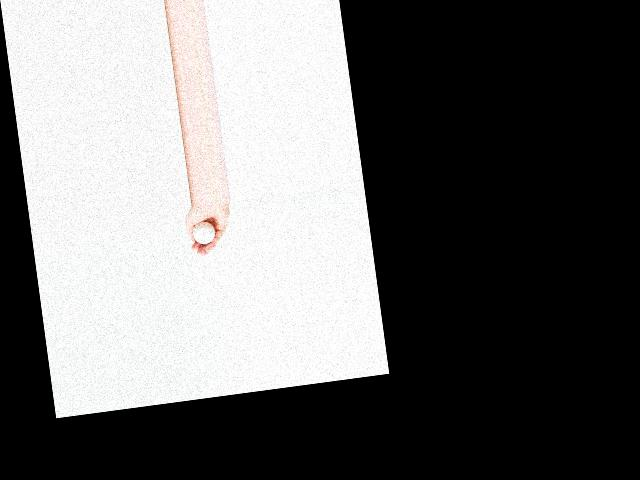egg: (192, 220, 216, 245)
